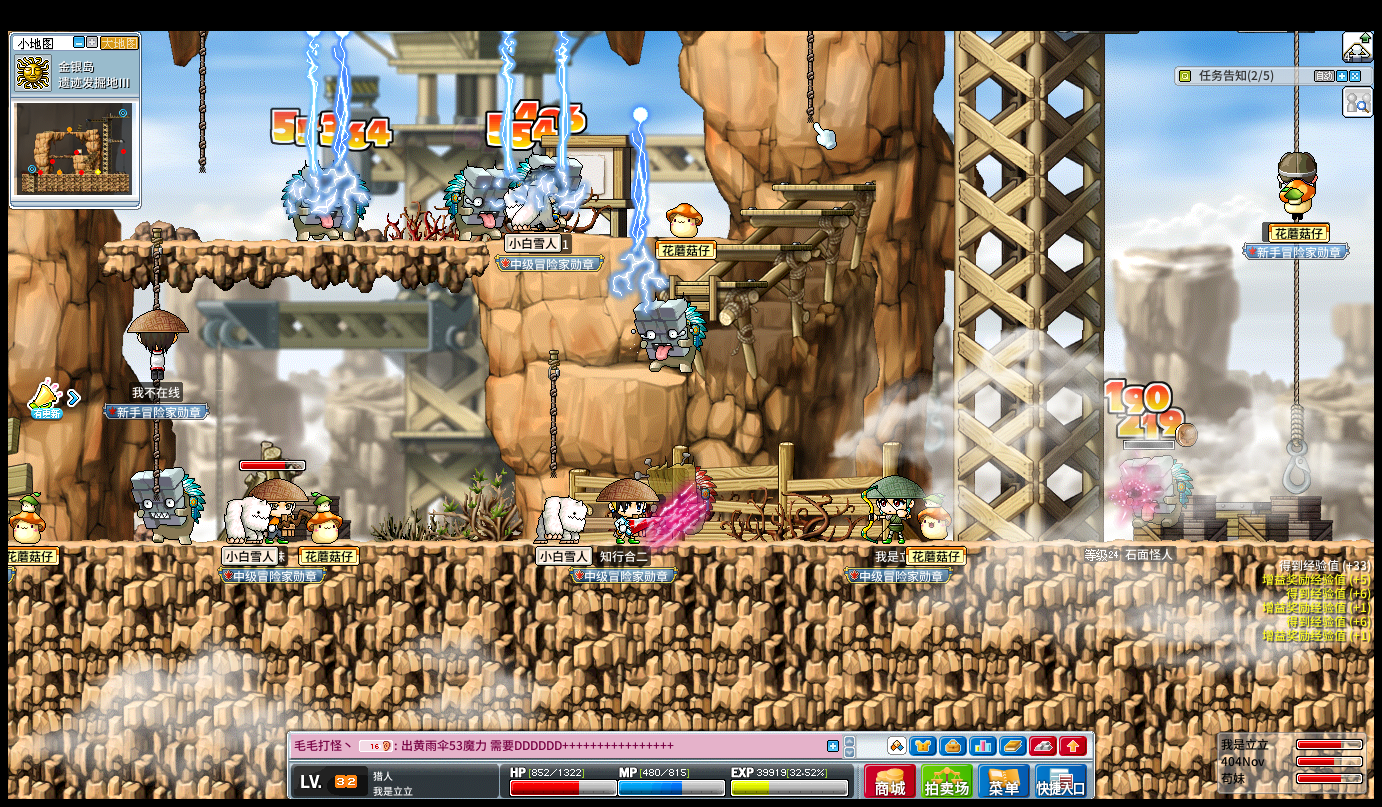floor: (43, 539, 1373, 549), (104, 239, 486, 250), (583, 365, 689, 387), (610, 233, 741, 242), (739, 209, 855, 216), (717, 243, 813, 251), (772, 184, 877, 191), (664, 280, 768, 287)
monster: (130, 467, 207, 545), (1119, 455, 1195, 527), (633, 299, 707, 372), (282, 166, 342, 240), (444, 166, 504, 240), (508, 154, 583, 183), (344, 170, 371, 241)
rope: (548, 351, 560, 480), (198, 30, 207, 174), (151, 228, 162, 309), (805, 30, 814, 124), (1294, 261, 1299, 402), (1294, 31, 1299, 152), (152, 419, 159, 501), (1290, 407, 1305, 440)
